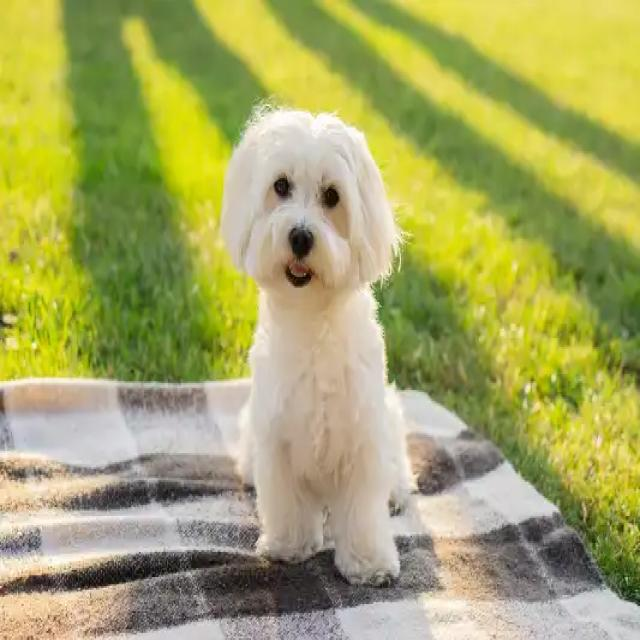maltese: (222, 100, 422, 594)
